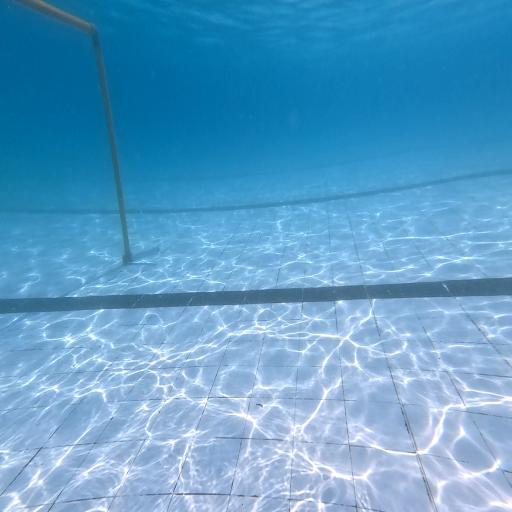gate: (17, 0, 159, 264)
